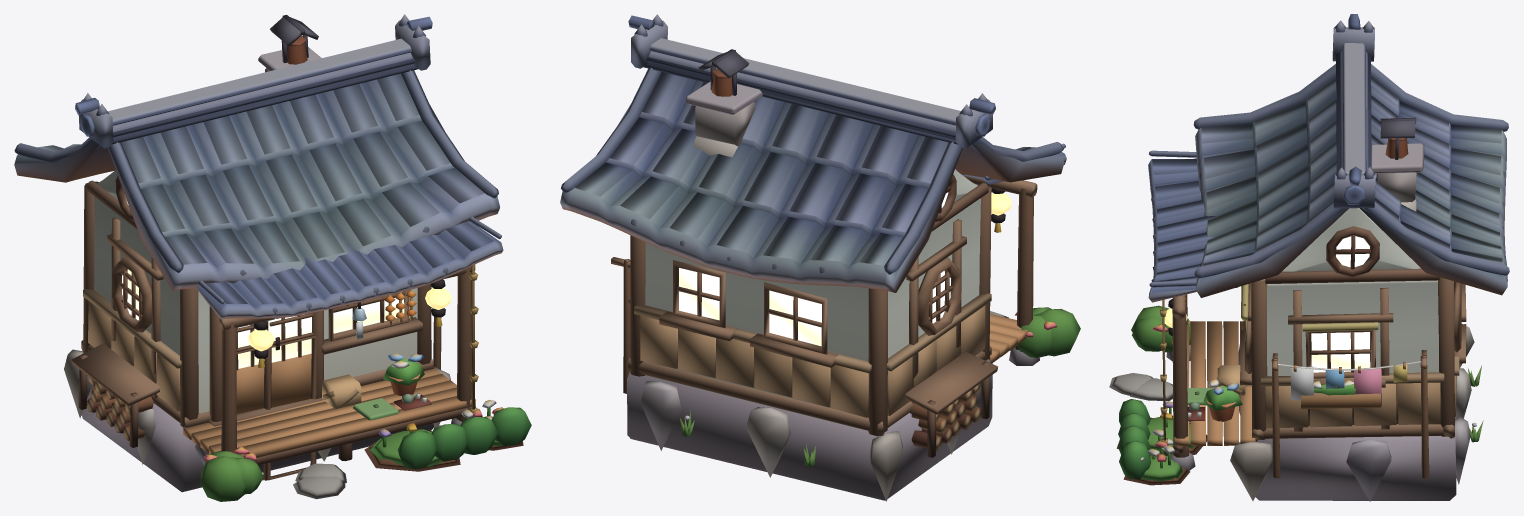
The model's file is home-2-v6.glb.
The picture shows the model from 3 angles, left to right: view 1: azimuth 30°, elevation 25°; view 2: azimuth 150°, elevation 25°; view 3: azimuth 270°, elevation 25°; orthographic projection. The views are drawn at different scales.
Parts seen in each view (by area): view 1: home, window_glow; view 2: home, window_glow; view 3: home, window_glow.
Boxes of the visible parts, x1,y1,x2,y2 form: home: (14,14,531,501); window_glow: (122,198,451,368); home: (560,14,1080,501); window_glow: (679,192,1011,346); home: (1109,14,1509,501); window_glow: (1164,236,1370,372).
Size of the model in its own units: 3.38 by 3.43 by 3.49.
